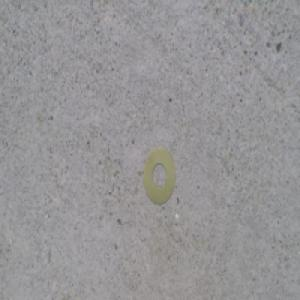Washer: (144, 146, 176, 200)
